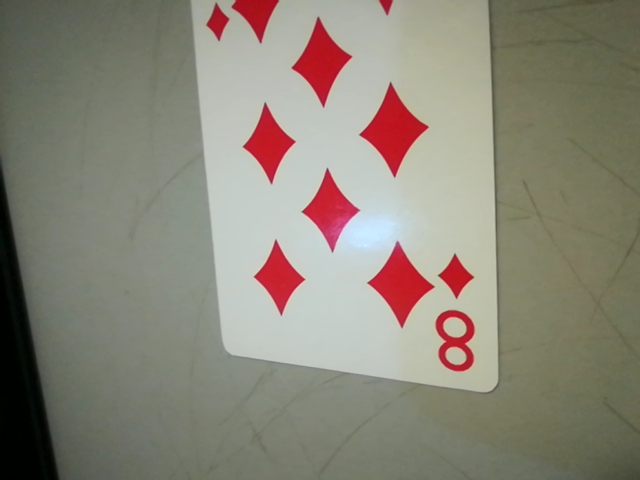fk 8: (425, 250, 489, 383)
